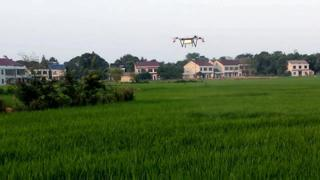UAV: (171, 35, 205, 48)
